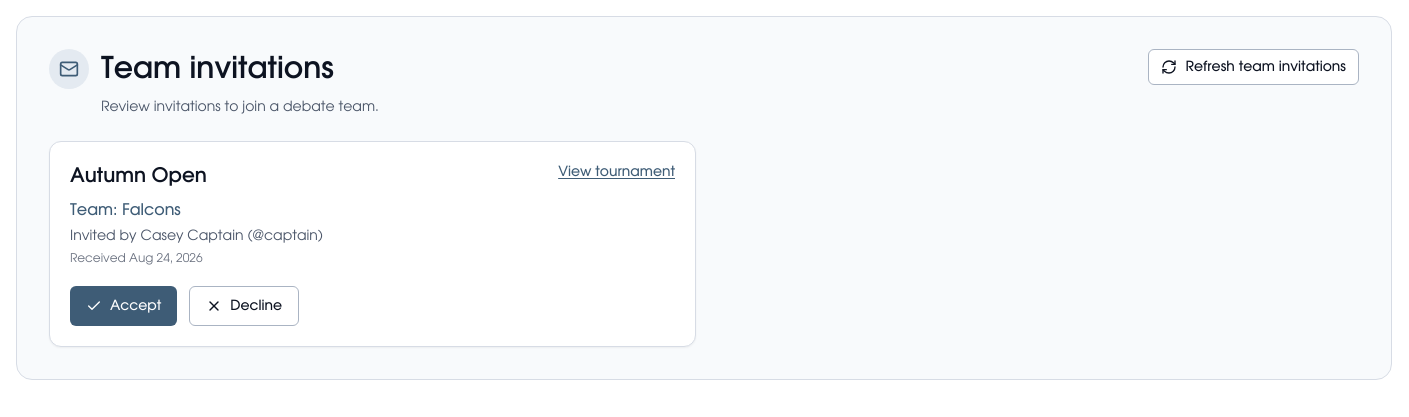
Test: ParticipantInvitationInbox › does not let an older refresh overwrite a newer action refresh
The width and height of the screenshot is (1409, 417).
Click the button "Refresh team invitations".
click(1254, 67)  # box [1148,49,1359,85]
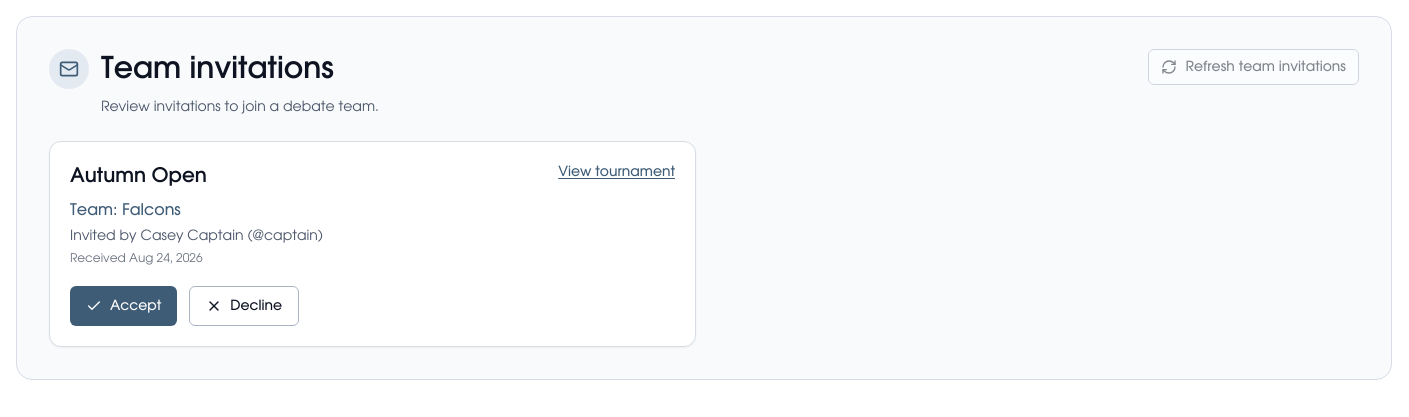
Click the button with aria-label "Accept invitation to Falcons".
click(124, 306)  # box [70,286,177,326]
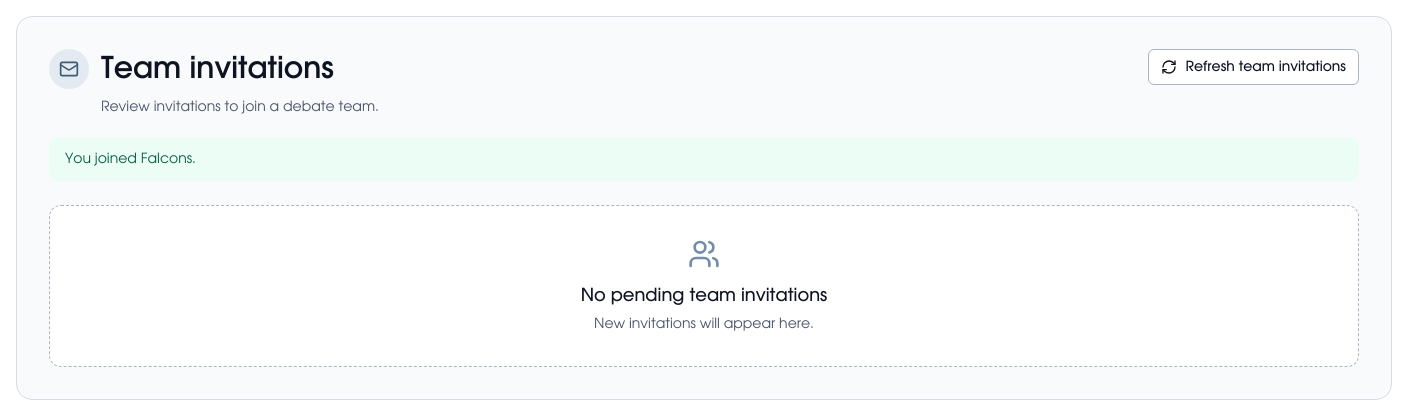
Expected: the heading "No pending team invitations" is shown, [581,287,827,305]
Expected: the text "Team: Falcons" is gone
